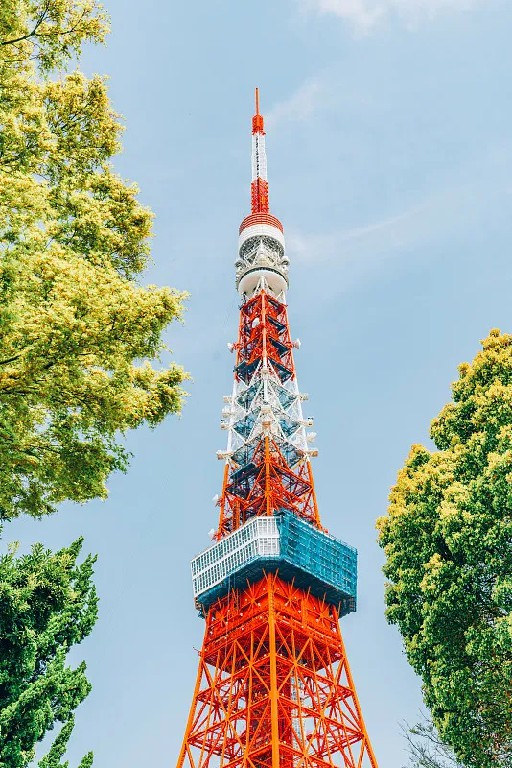Tokyo: (173, 85, 377, 767)
